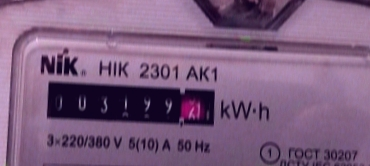0: (74, 90, 86, 110), (51, 90, 61, 109)
1: (118, 90, 128, 109)
3: (95, 92, 107, 113)
6: (183, 103, 194, 117)
9: (139, 91, 150, 111), (161, 94, 172, 113)
screen: (36, 68, 221, 134)
